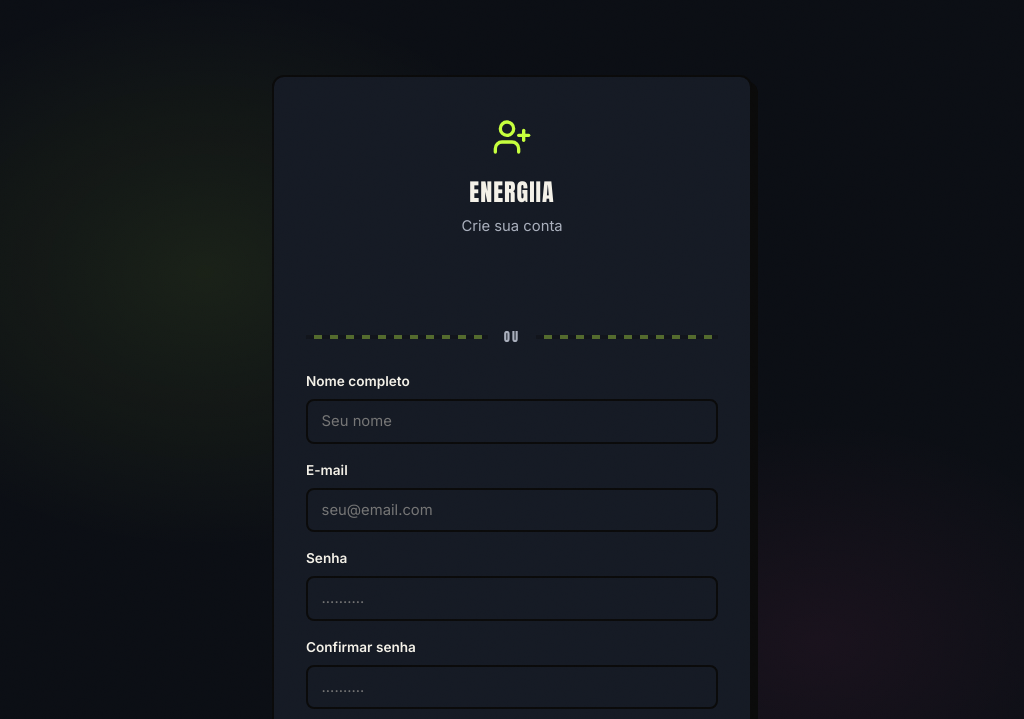
Test: Register › shows generic error message on failed registration
In the field labelled "Nome completo": [512, 422] box [306, 399, 718, 444], type "Test User"
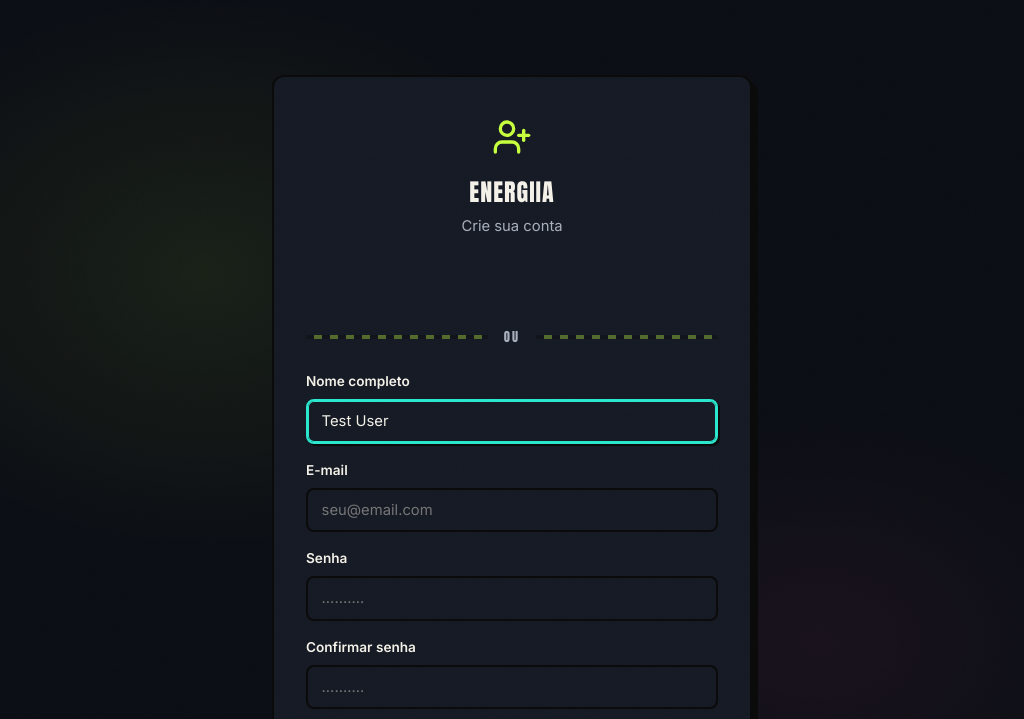
In the field labelled "E-mail": [512, 510] box [306, 488, 718, 532], type "invalid@test.com"
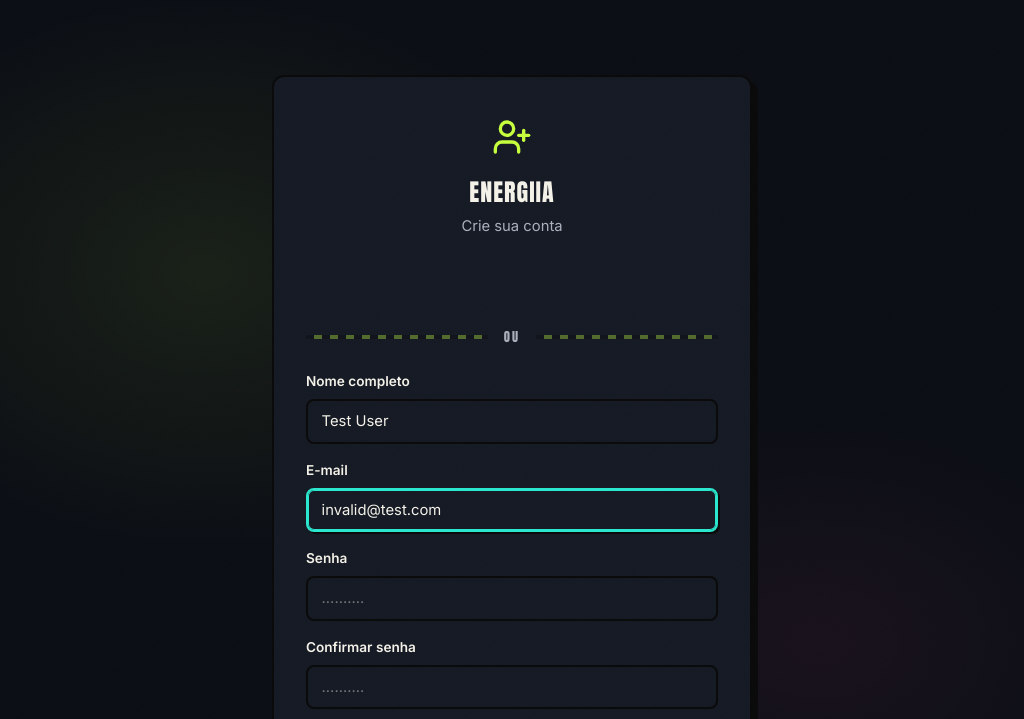
In the password field labelled "Senha": [512, 598] box [306, 576, 718, 621], type "longenoughPass1"
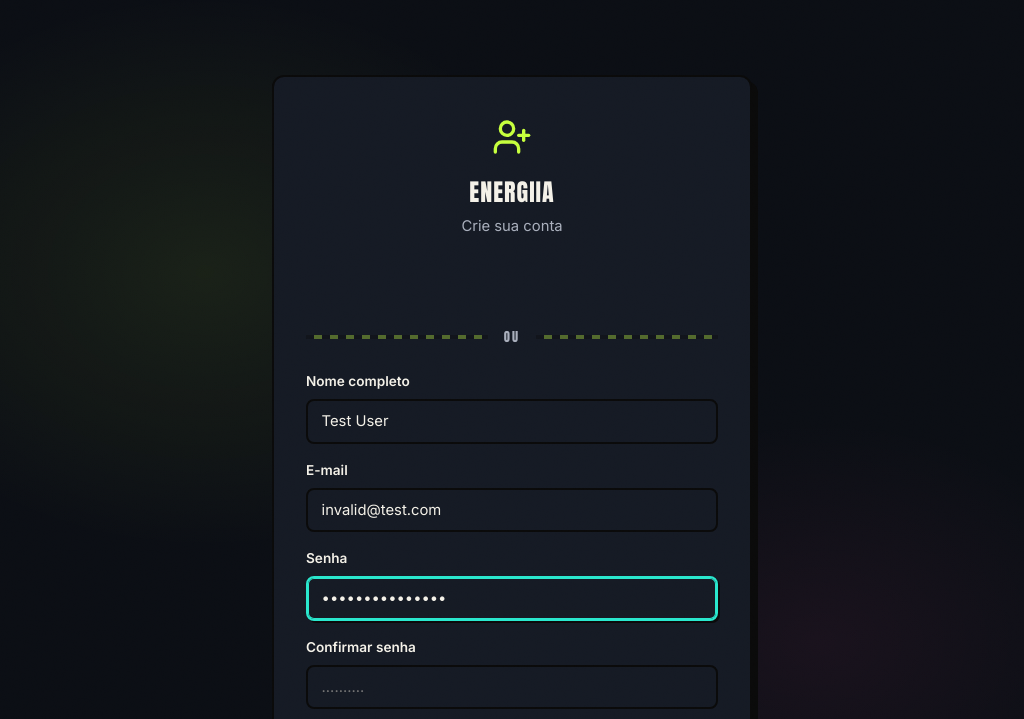
In the password field labelled "Confirmar senha": [512, 687] box [306, 665, 718, 709], type "longenoughPass1"
(page scrolled)
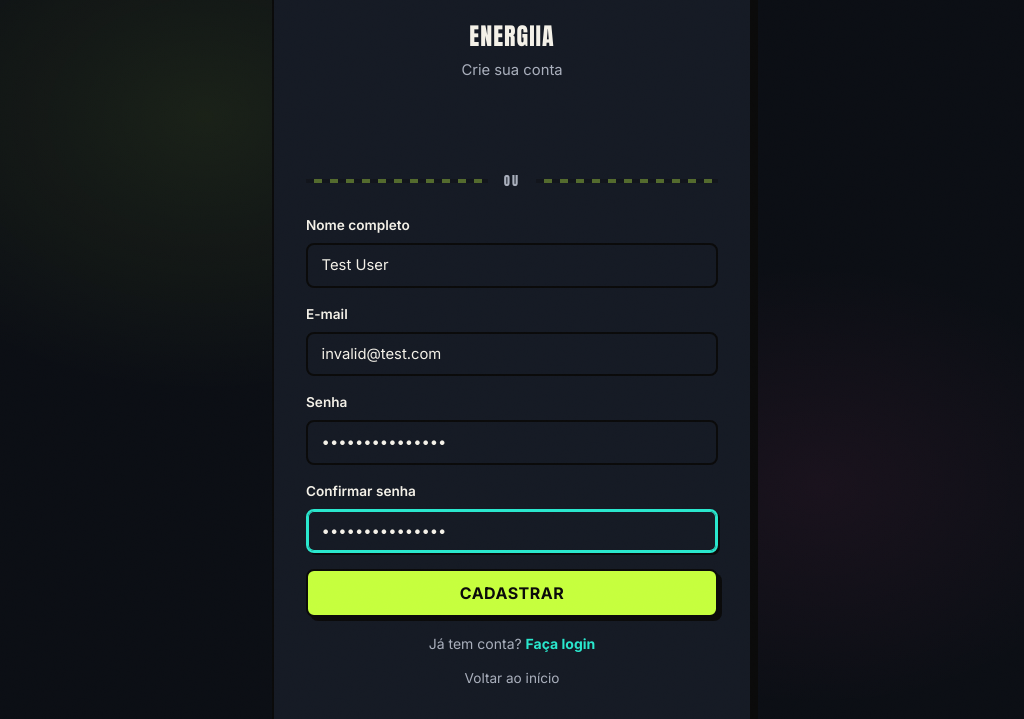
Click the button "Cadastrar": [512, 593] box [306, 569, 718, 617]
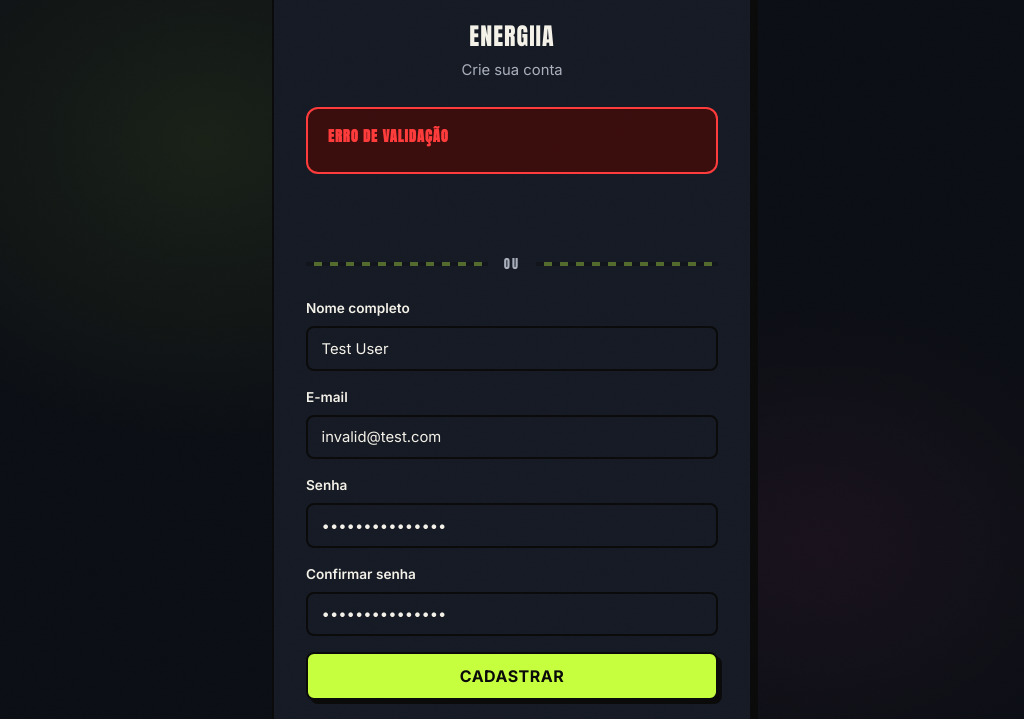
Result: the text "Erro de validação" is shown at [328, 125, 449, 147]
